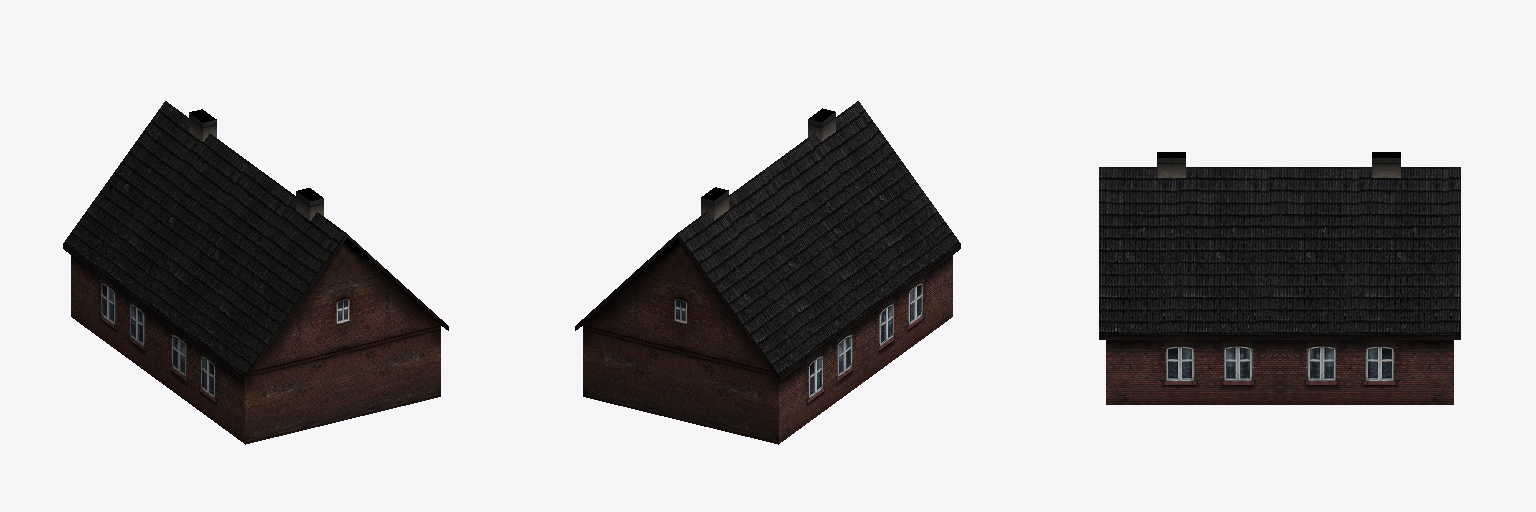
3 renders of one model, left to right at view 1: azimuth 30°, elevation 25°; view 2: azimuth 150°, elevation 25°; view 3: azimuth 270°, elevation 25°, orthographic.
Parts seen in each view (by area): view 1: village_house_3; view 2: village_house_3; view 3: village_house_3.
Boxes of the visible parts, <box> form: village_house_3: <box>63,101,448,444</box>; village_house_3: <box>575,101,960,444</box>; village_house_3: <box>1099,152,1460,404</box>.
Bounding box in the file's own units: 8.5 × 8 × 13.
1 materials, 1 textured.